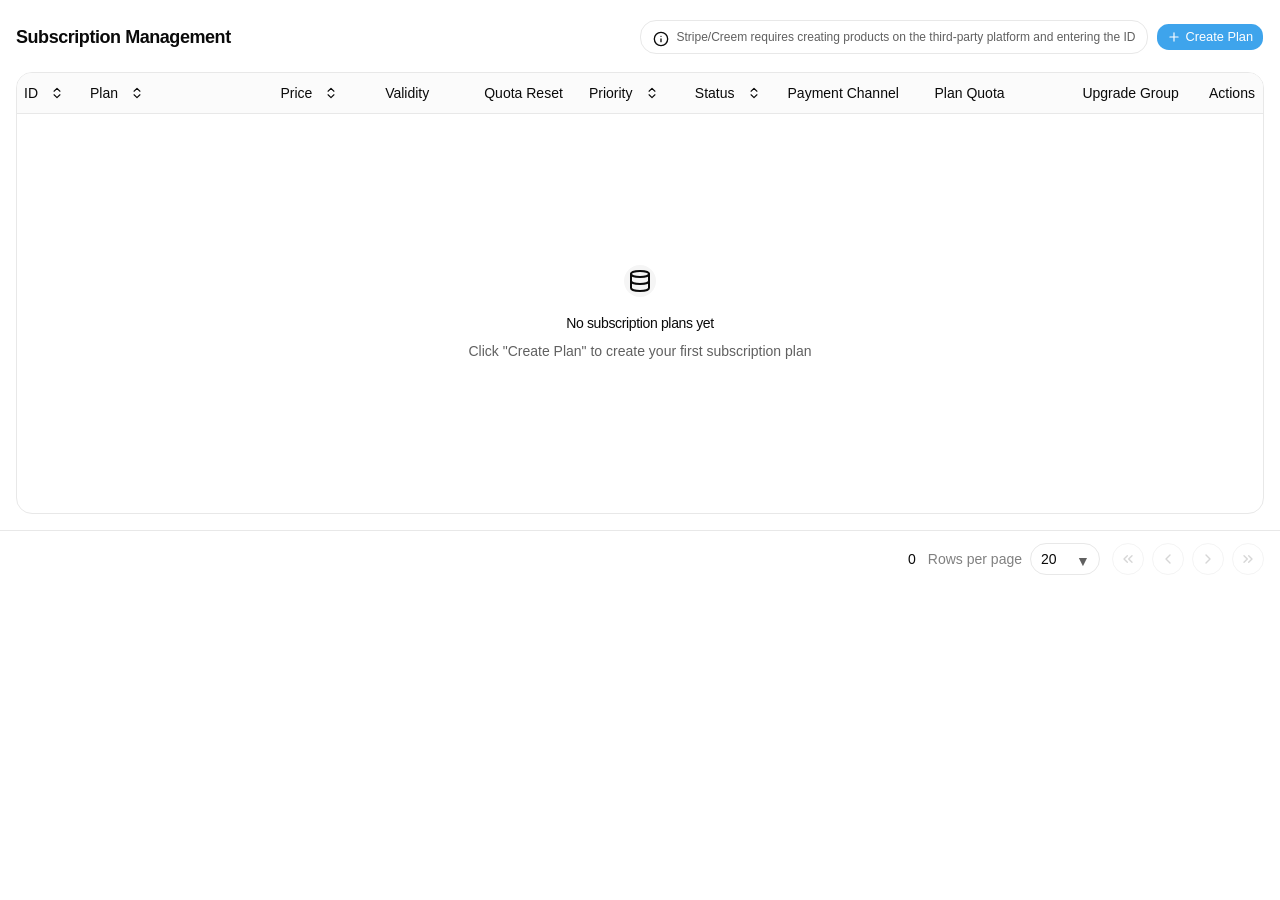
an administrator uses the server capability without root options or a hardcoded terms version
What coordinates should you click on to do the following:
click the button "Create Plan"
I would click on:
 (1210, 37)
Its box is [1156,23,1264,51].
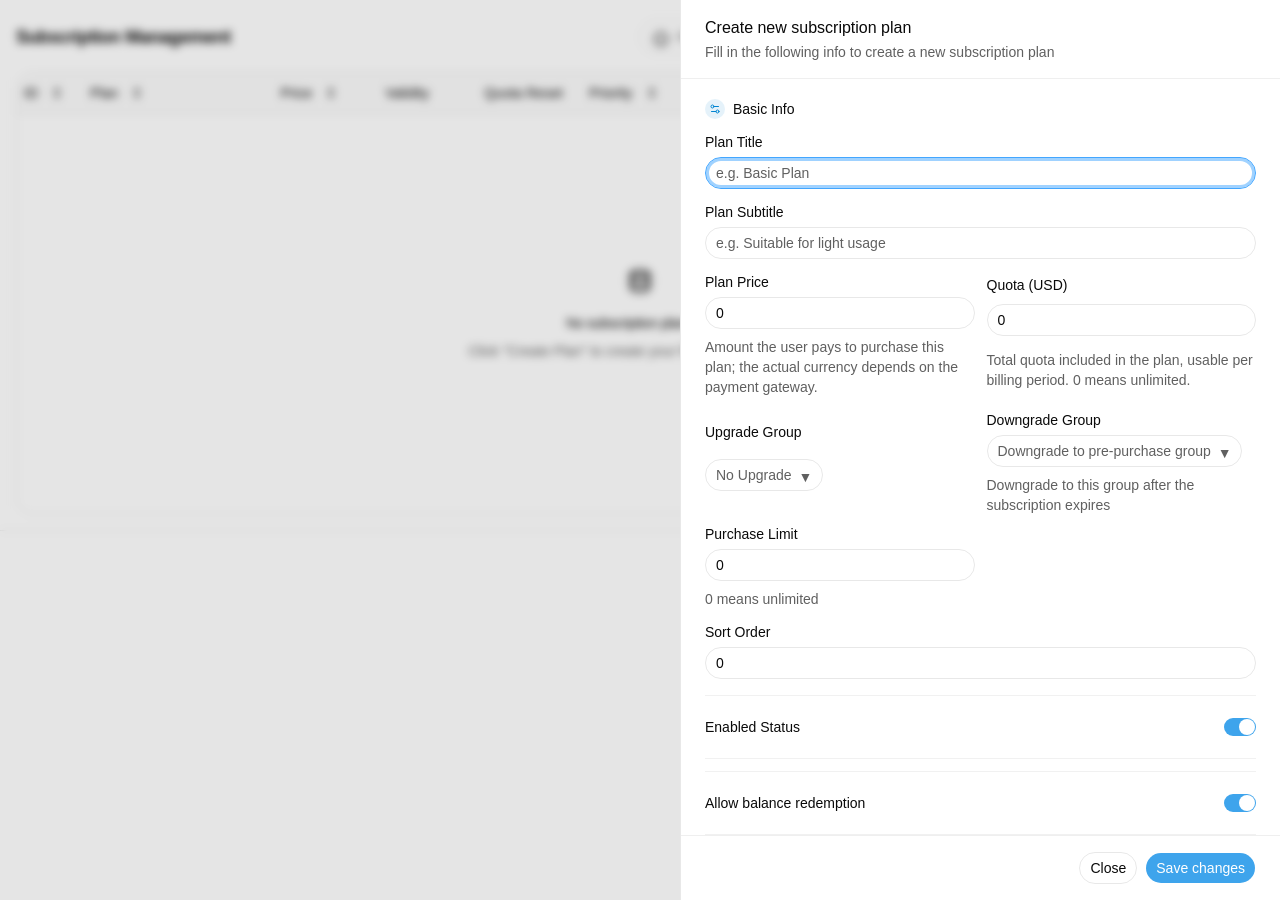
Check: the dialog is shown, box [680,0,1279,899]
